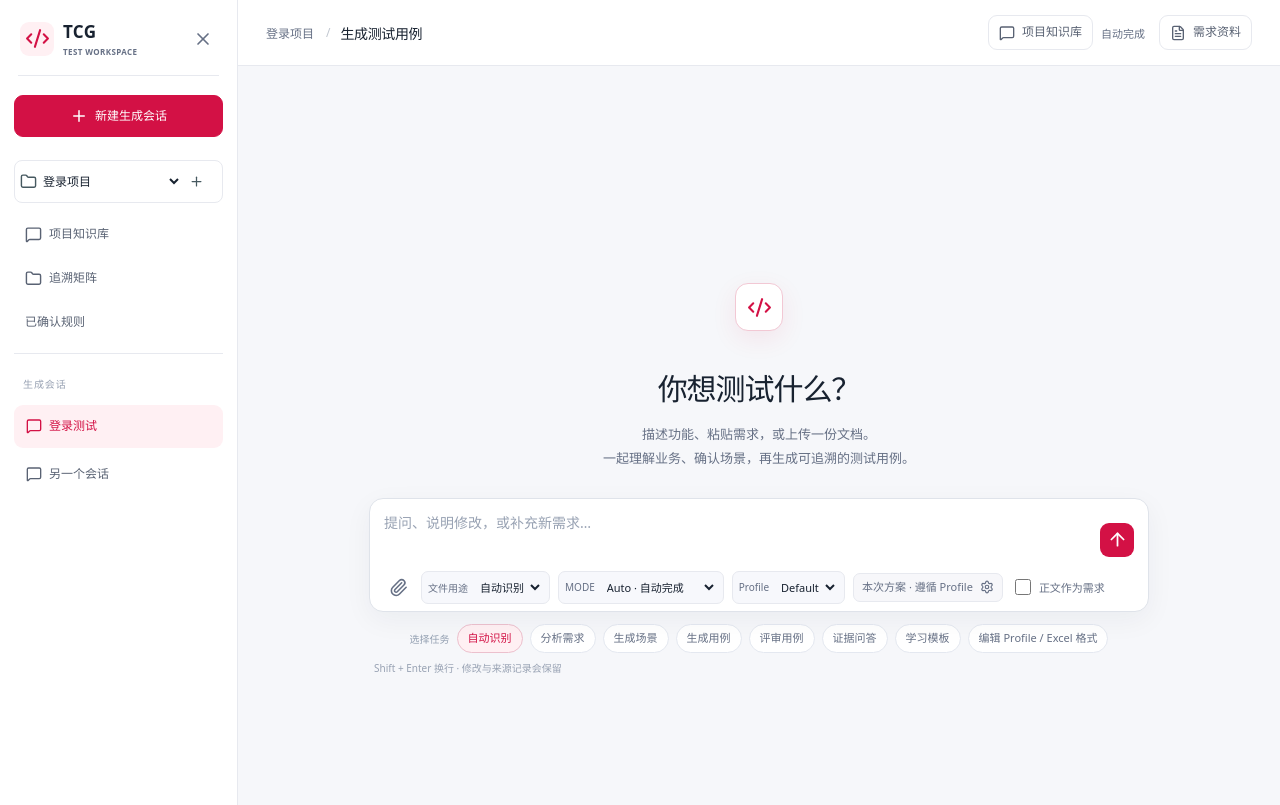
clarification replies stay beside their questions, send one answer and preserve an existing draft
The image size is (1280, 805).
In the text box named "聊天输入": (737,535) 384,511 -> 1090,559, type "保留我的额外要求。"
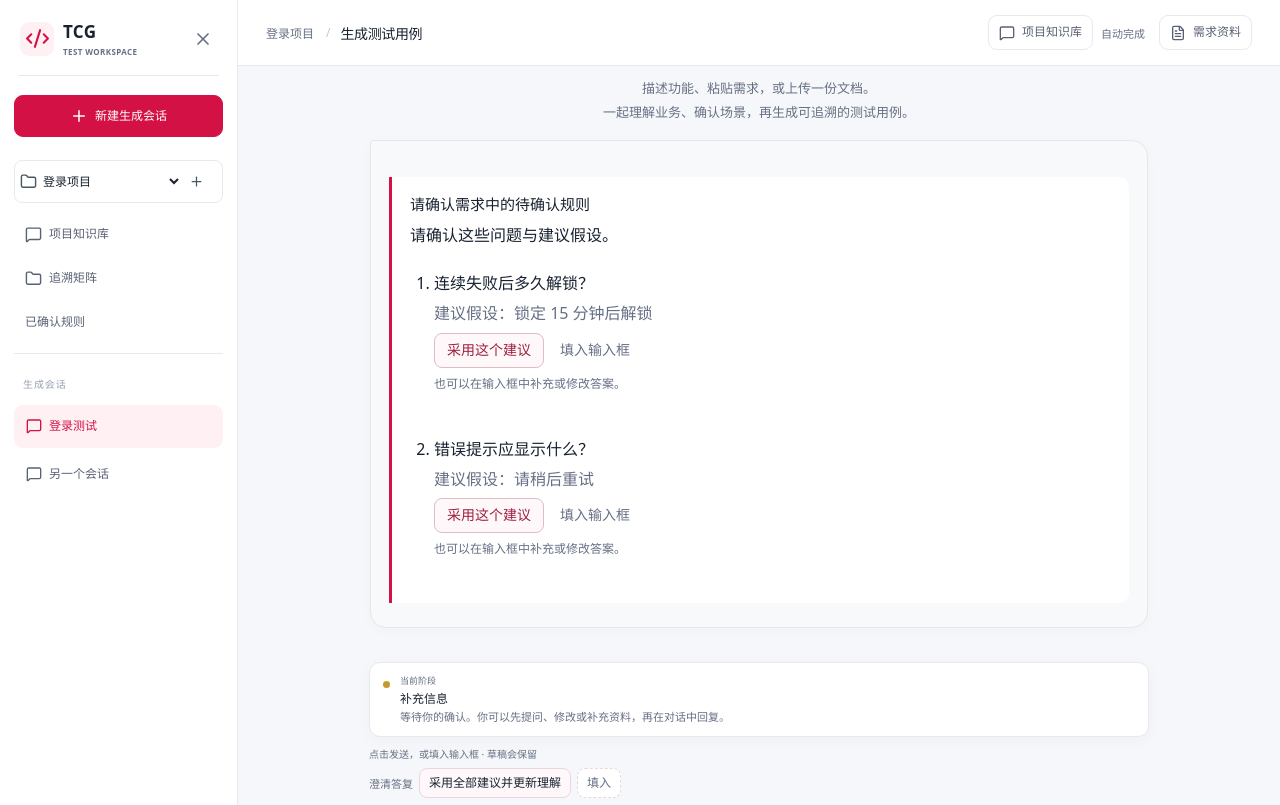
Now the element "澄清答复" is shown, box 369,768 -> 621,798
Now the element named "Q1 连续失败后多久解锁？" is shown, box 370,140 -> 1148,628
Click the button with aria-label "采用 Q1 建议：锁定 15 分钟后解锁": (489,350) 434,333 -> 544,368
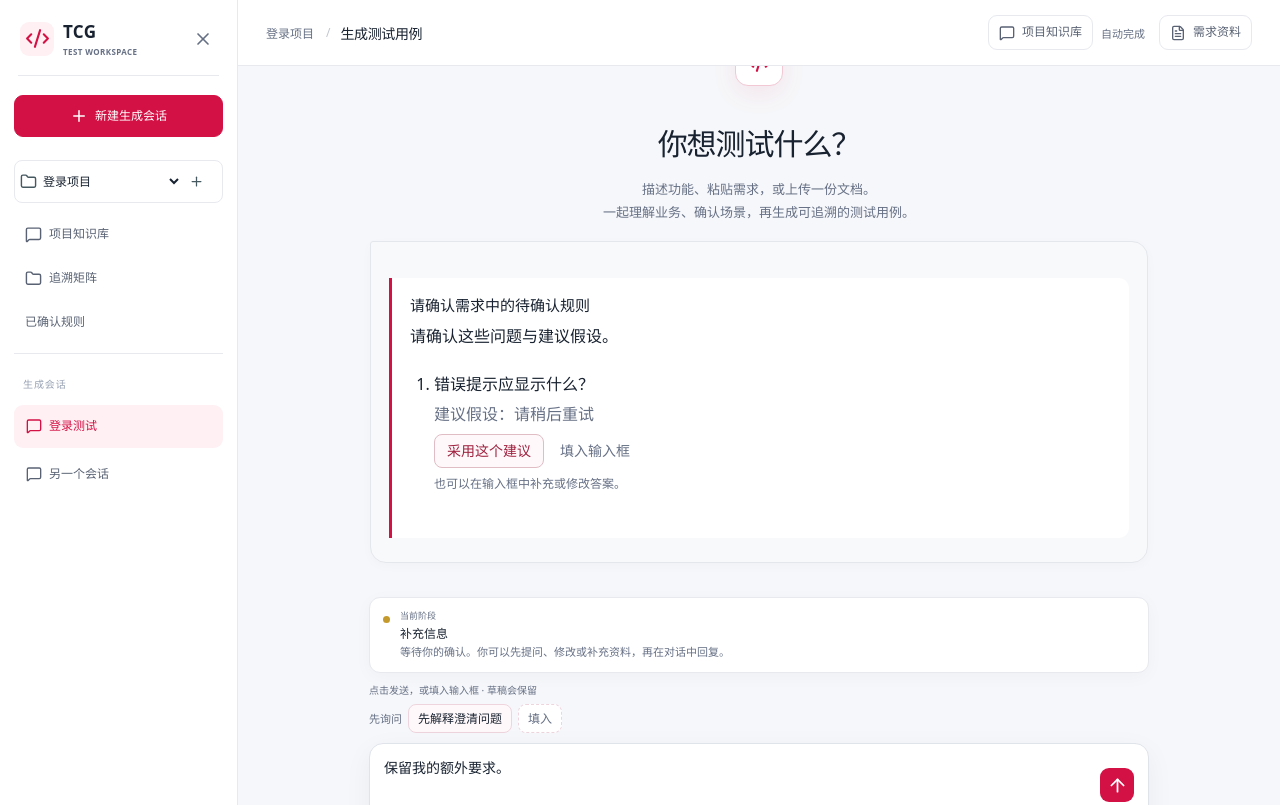
Now the button with aria-label "采用 Q2 建议" is shown, box 434,434 -> 544,468
